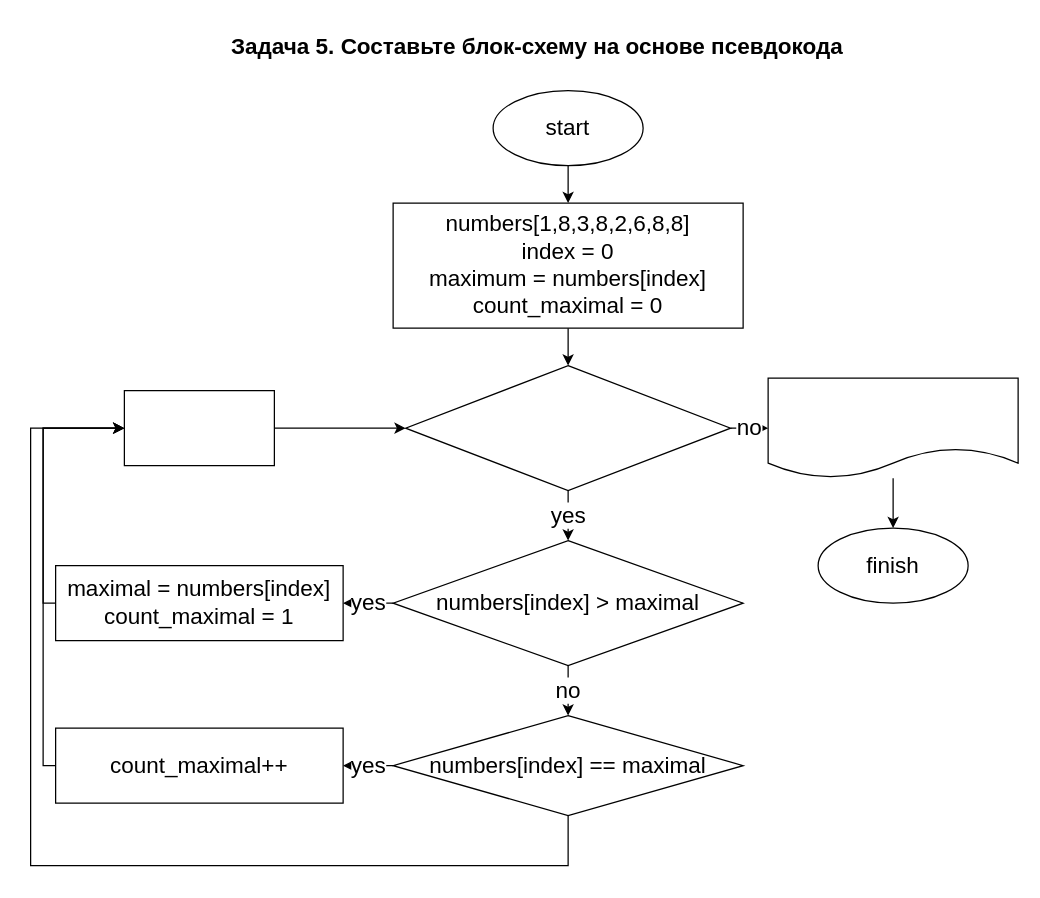
Some shapes in this 1040 by 898 pixel diagram are drawn without their labels. The shapes that lost their labels are listed below. From the top down, each one's box as (x1, y1, x2, y2) in pixels, then its label:
(123, 389, 274, 466): index++
(404, 364, 731, 491): index < numbers.length
(767, 377, 1018, 478): print(count_maximal)
